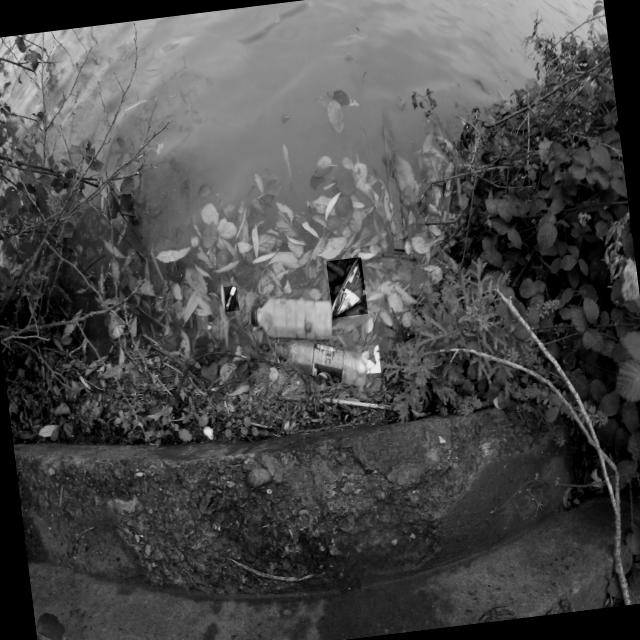Bottle cap: (251, 305, 257, 325), (276, 343, 282, 356)
Clear plastic bottle: (277, 340, 368, 386), (252, 297, 333, 340)
Crisp packet: (332, 258, 365, 317)
Other plastic: (366, 345, 381, 374)
Unlabeled litter: (225, 286, 237, 311)
